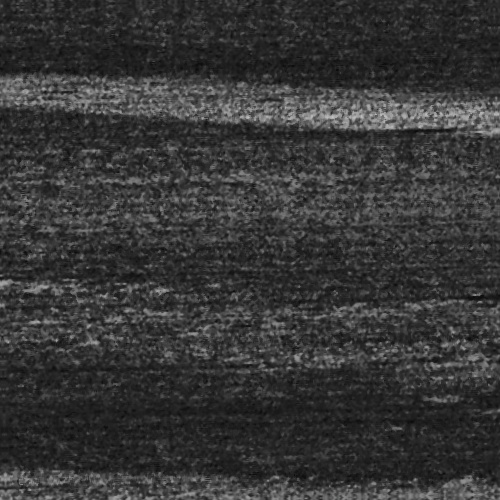object: (98, 496, 139, 499)
shadow: (13, 496, 118, 499)
